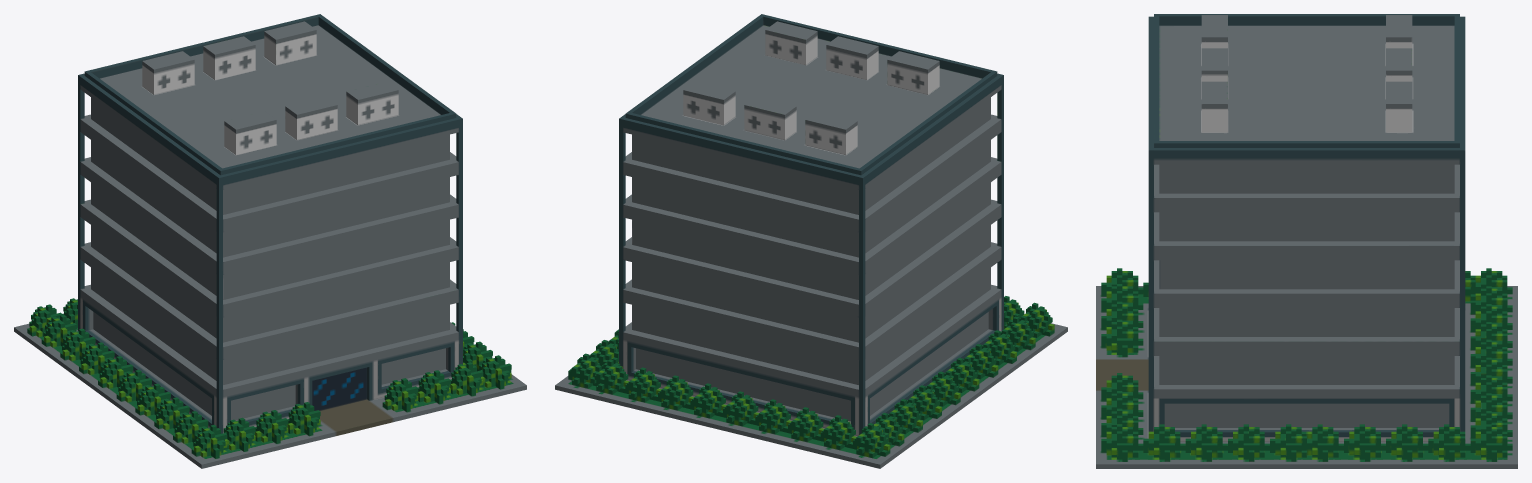
File: building_big_1_overtile.glb
3 renders of one model, left to right at view 1: azimuth 30°, elevation 25°; view 2: azimuth 150°, elevation 25°; view 3: azimuth 270°, elevation 25°, orthographic. The views are drawn at different scales.
Parts seen in each view (by area): view 1: building_big_1_overtile; view 2: building_big_1_overtile; view 3: building_big_1_overtile.
Boxes of the visible parts, box(x1,y1,x2,y2) form: building_big_1_overtile: box(14, 14, 526, 468); building_big_1_overtile: box(555, 14, 1067, 468); building_big_1_overtile: box(1096, 14, 1517, 468).
Size of the model in its own units: 8 by 6.7 by 8.
Materials: 1 (1 with a texture image).
